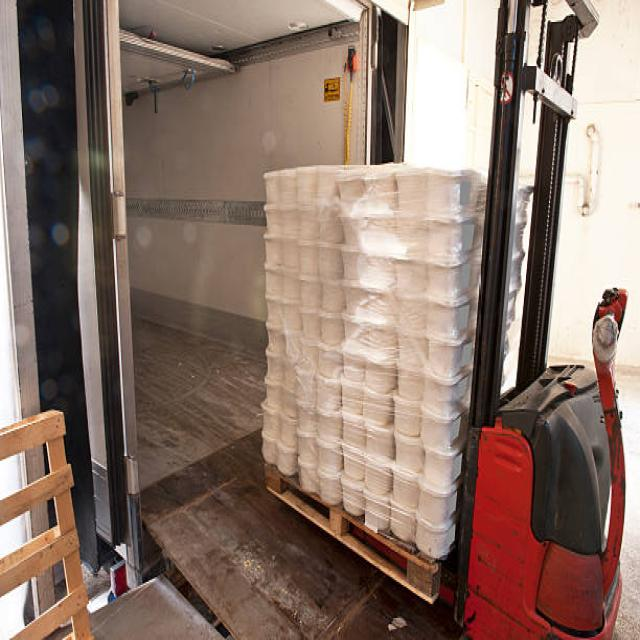Wooden-Pallets: (257, 462, 438, 600), (0, 410, 95, 640)
